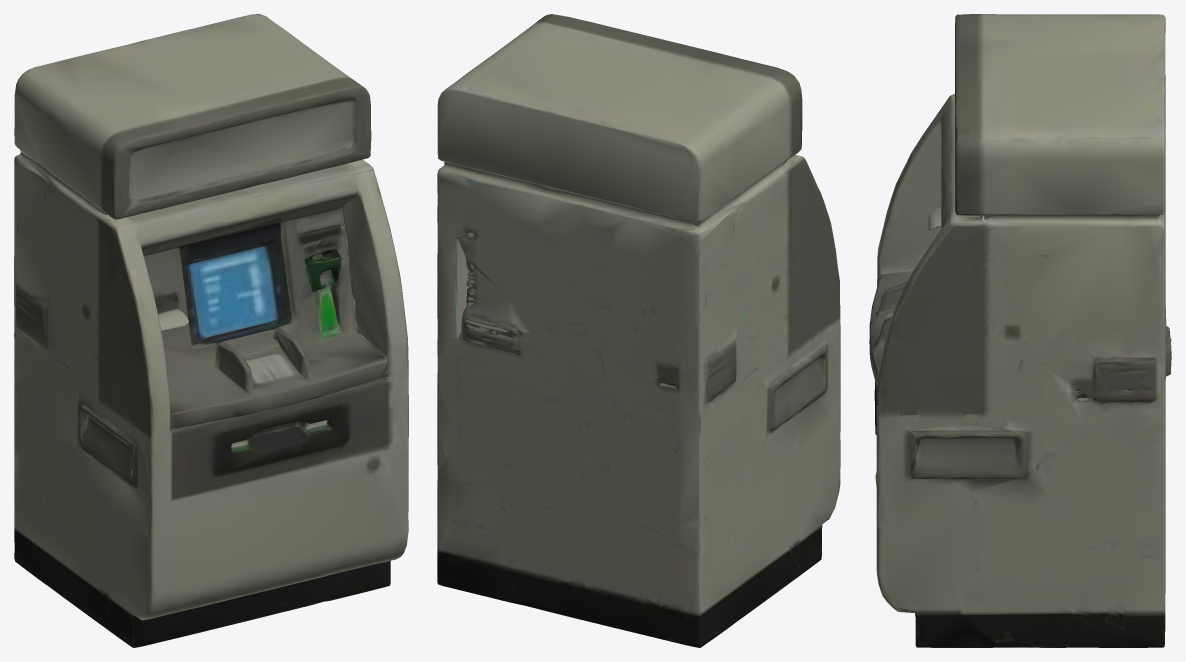
The model's file is atm.glb.
3 views of the same model, side by side, from view 1: azimuth 30°, elevation 25°; view 2: azimuth 150°, elevation 25°; view 3: azimuth 270°, elevation 25° (orthographic). The views are drawn at different scales.
Visible parts, largest first — view 1: geometry_0; view 2: geometry_0; view 3: geometry_0.
Part boxes in pixels (bbox=[...]): geometry_0: bbox=[14, 14, 408, 647]; geometry_0: bbox=[437, 14, 840, 647]; geometry_0: bbox=[869, 14, 1171, 647].
Bounding box in the file's own units: 0.5689 × 1 × 0.5378.
1 material, 1 textured.
